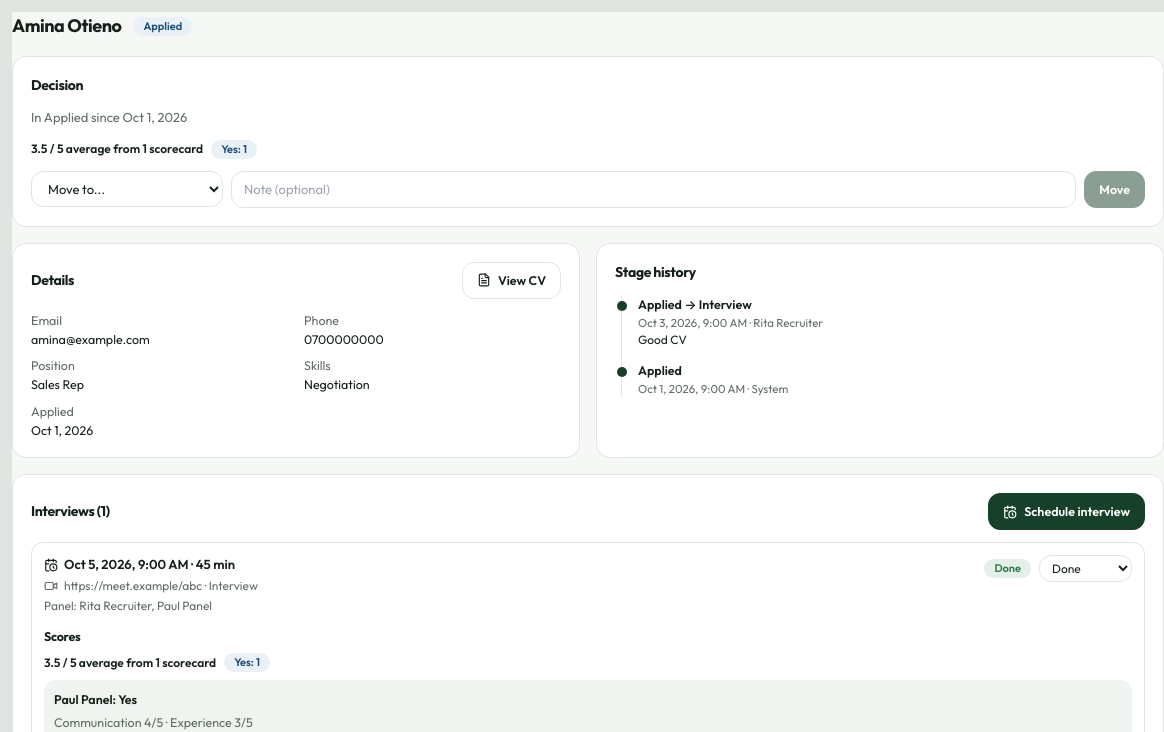
Scenario: CandidateView › opens the Schedule interview form once a candidate is moved to the interview stage
Select "Interview" in the dropdown named "Move to stage" at (127, 188), box [31,170,223,206]
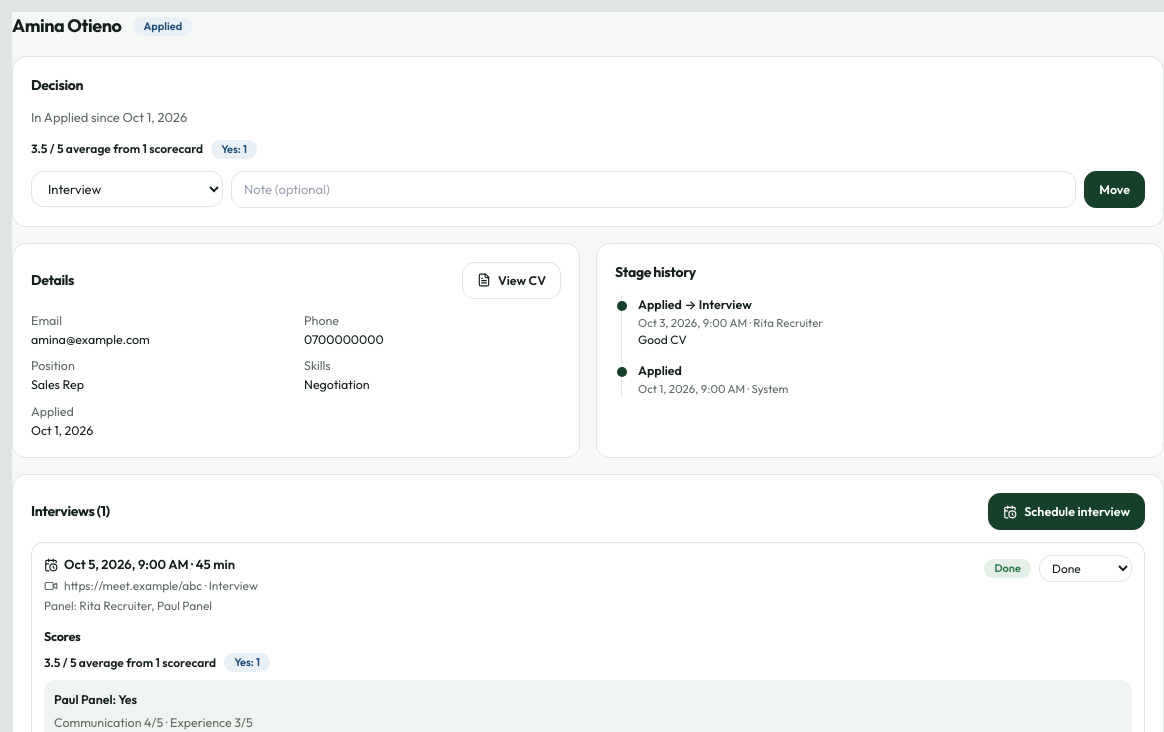
Click the button "Move" at (1115, 189), box [1084,170,1145,208]
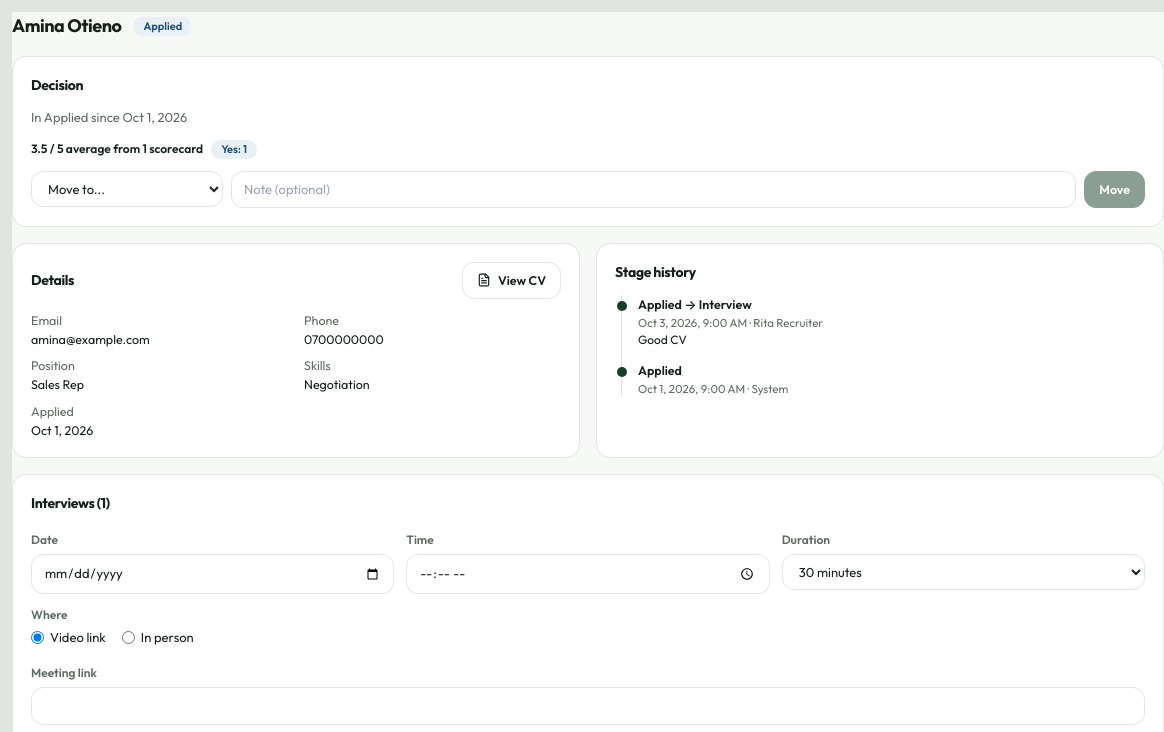
expect the field labelled "Meeting link" is shown: met, box [31,687,1145,725]
